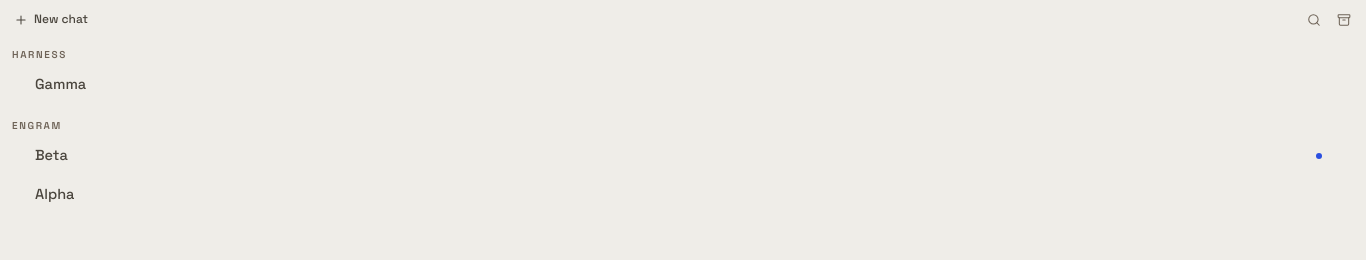
Scenario: SessionList › Select all ticks every shown session, then Clear empties the selection
Expected: the text "Alpha" is shown, [35,185,74,203]
Expected: the button "Select all" is not shown
What coordinates should you click on to do the following:
click the checkbox named "Select Alpha"
I would click on:
 (683, 194)
Its box is [8,176,1358,213].
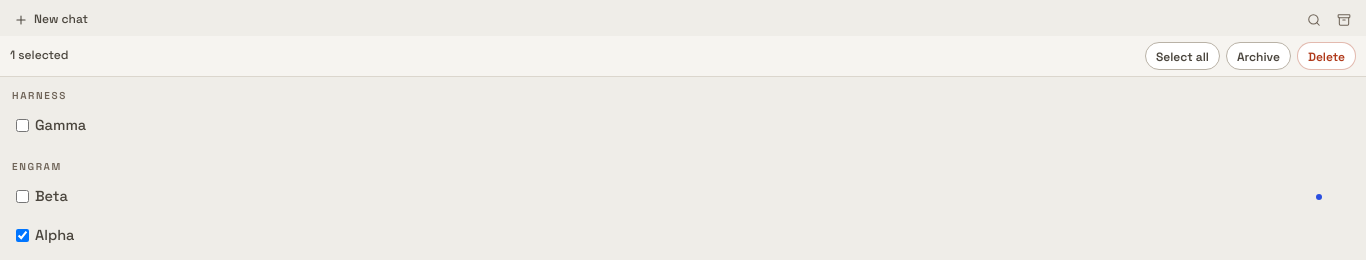
What coordinates should you click on to do the following:
click the button "Select all"
I would click on:
 (1182, 56)
Its box is [1145,42,1220,70].
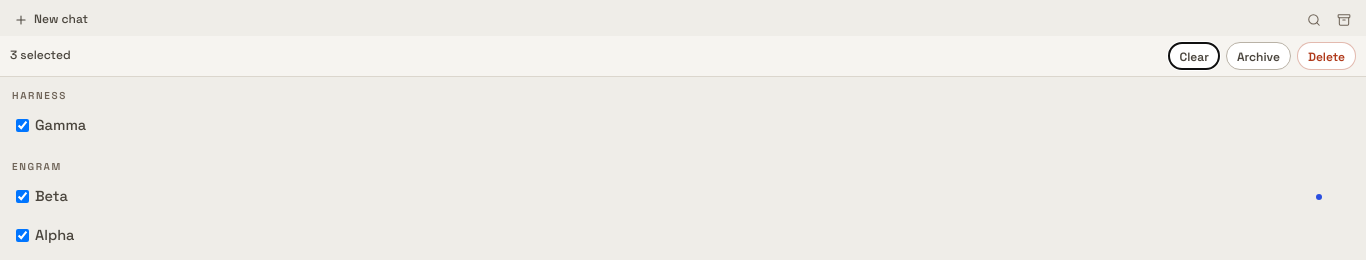
Now the text "3 selected" is shown, box [10,47,71,65]
Now the checkbox named "Select Beta" is checked, box [16,190,29,203]
Now the checkbox named "Select Gamma" is checked, box [16,119,29,132]
What coordinates should you click on to do the following:
click the button "Clear"
I would click on:
 (1194, 56)
Its box is [1168,42,1220,70].
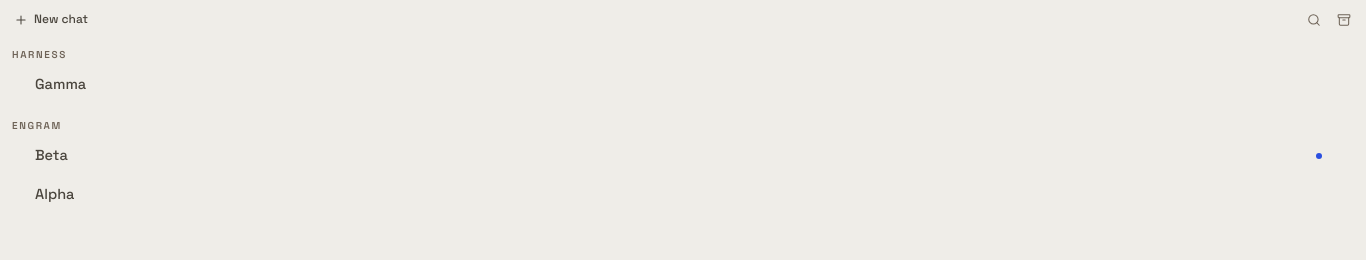
Now the checkbox named "Select Alpha" is not checked, box [8,176,1358,213]
Now the text "selected" is gone
